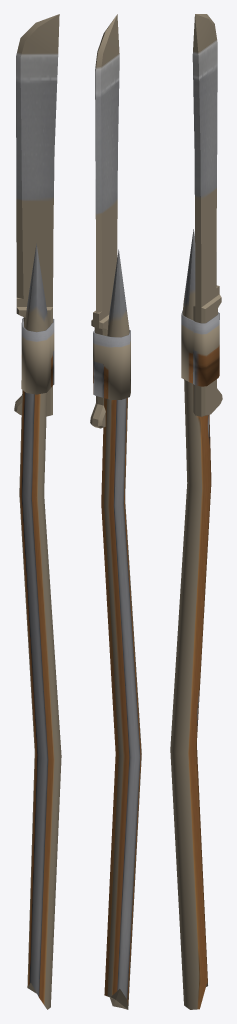
The model's file is SpearMachete.fbx.
3 views of the same model, side by side, from view 1: azimuth 90°, elevation 25°; view 2: azimuth 150°, elevation 25°; view 3: azimuth 330°, elevation 25° (orthographic).
Parts seen in each view (by area): view 1: TB Machete; view 2: TB Machete; view 3: TB Machete.
Boxes of the visible parts, x1,y1,x2,y2 form: TB Machete: (14,14,61,1009); TB Machete: (90,14,141,1009); TB Machete: (170,14,222,1009).
Size of the model in its own units: 0.0369 by 0.9569 by 0.0413.
